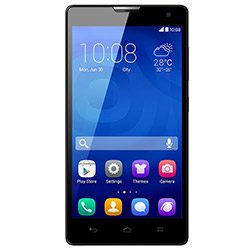Handphone: (63, 2, 194, 250)
